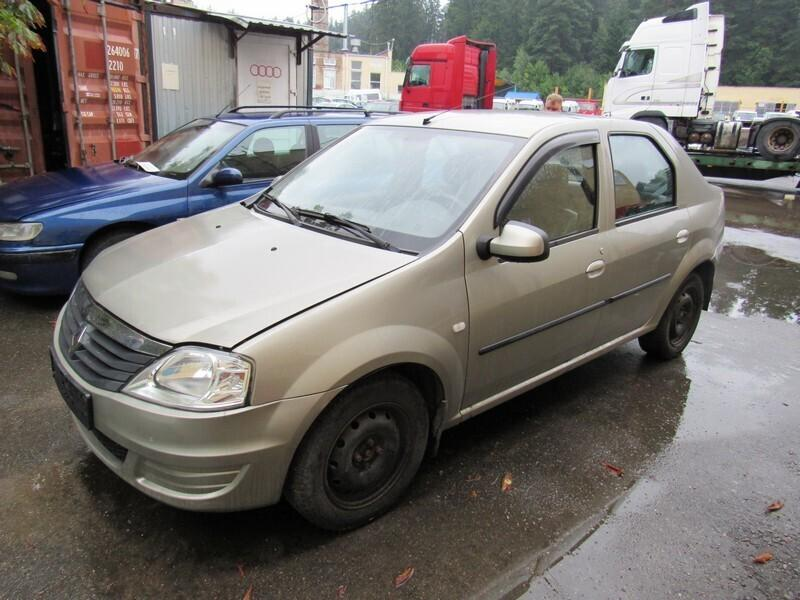Logan_2008-2015: (46, 106, 730, 533)
